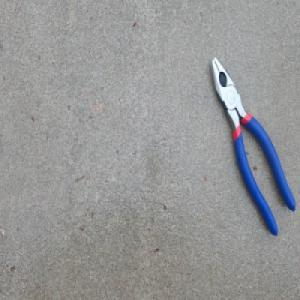Pliers: (209, 56, 296, 237)
